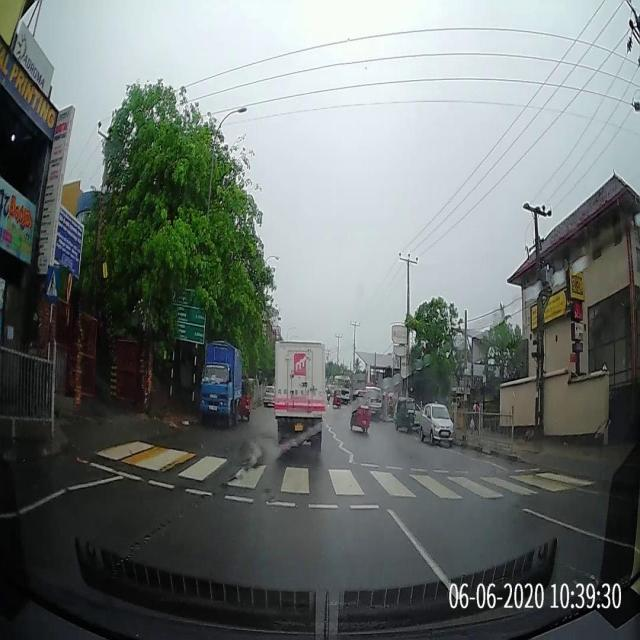Crosswalk: (65, 433, 607, 517)
